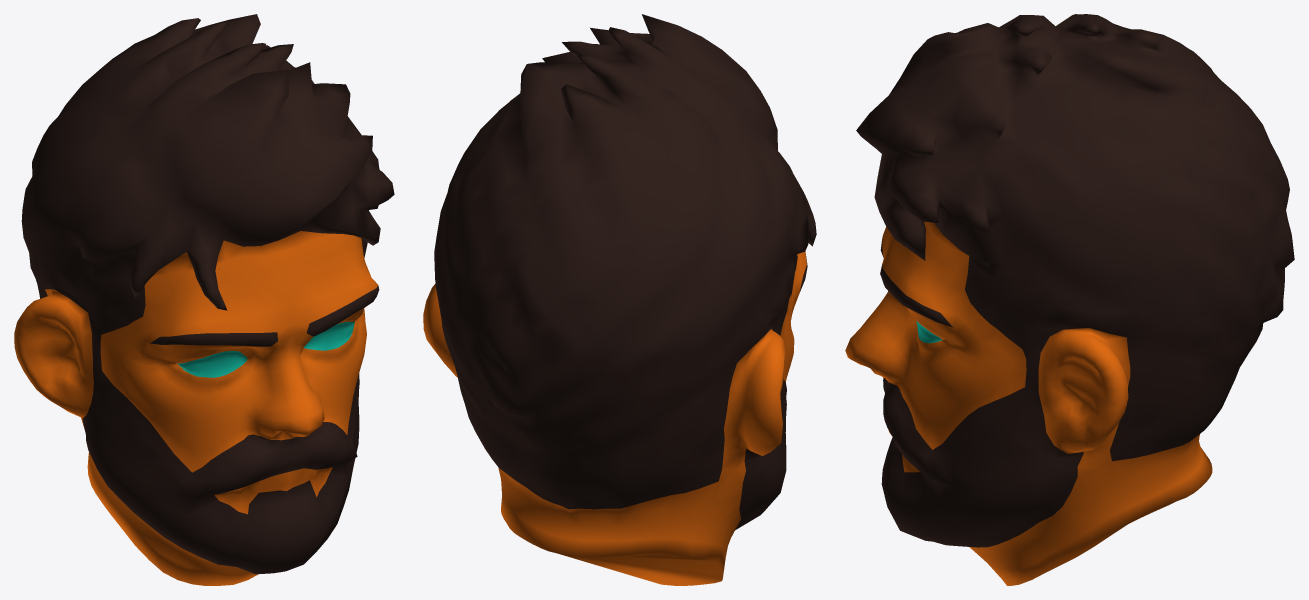
The model's file is headOnly.fbx.
3 renders of one model, left to right at view 1: azimuth 30°, elevation 25°; view 2: azimuth 150°, elevation 25°; view 3: azimuth 270°, elevation 25°, orthographic. The views are drawn at different scales.
Visible parts, largest first — view 1: Player.001; view 2: Player.001; view 3: Player.001.
Boxes of the visible parts, left/top/right/bottom form: Player.001: left=14, top=14, right=394, bottom=585; Player.001: left=423, top=14, right=816, bottom=585; Player.001: left=845, top=14, right=1294, bottom=585.
Bounding box in the file's own units: 24.39 × 36.13 × 26.06.
